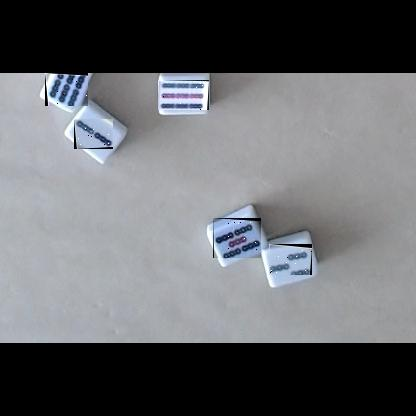2s: (74, 119, 113, 149)
3s: (269, 244, 312, 275)
5s: (213, 218, 261, 258)
6s: (45, 73, 88, 106)
9s: (158, 80, 209, 110)
